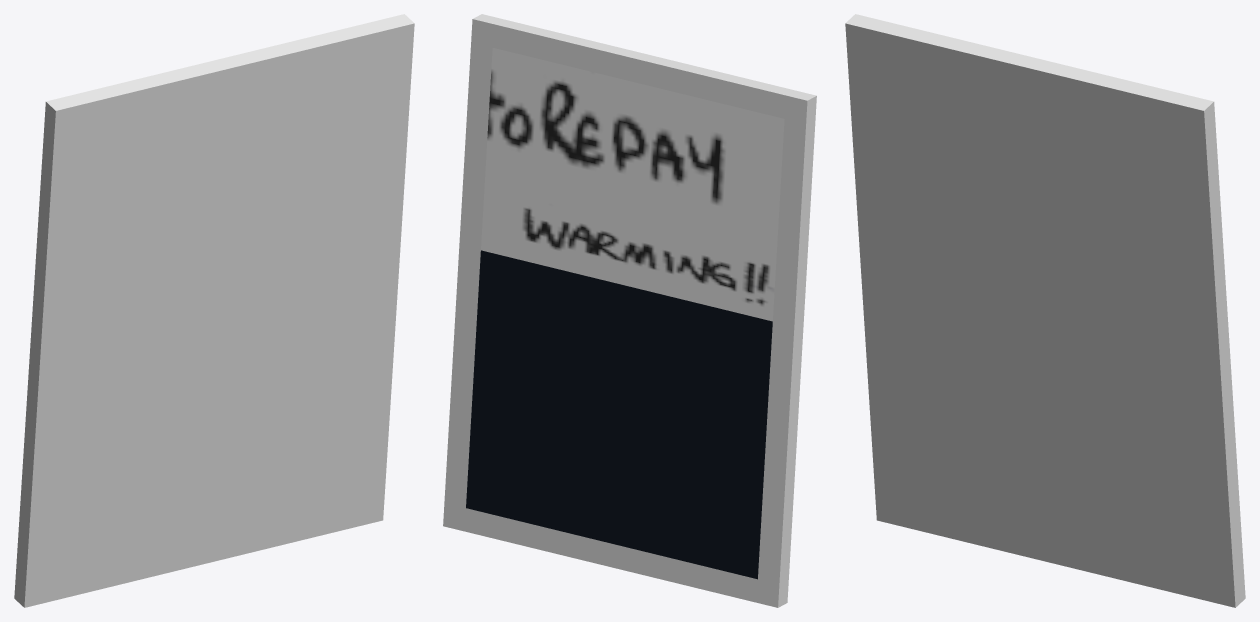
The model's file is LoanApplication.001.fbx.
3 views of the same model, side by side, from view 1: azimuth 30°, elevation 25°; view 2: azimuth 150°, elevation 25°; view 3: azimuth 330°, elevation 25° (orthographic). The views are drawn at different scales.
Parts seen in each view (by area): view 1: LoanApplication.001; view 2: LoanApplication.001; view 3: LoanApplication.001.
Part boxes in pixels (x1=…): LoanApplication.001: x1=14, y1=14, x2=414, y2=607; LoanApplication.001: x1=443, y1=14, x2=816, y2=607; LoanApplication.001: x1=845, y1=14, x2=1245, y2=607.
Bounding box in the file's own units: 52.79 × 73.41 × 10.61.
